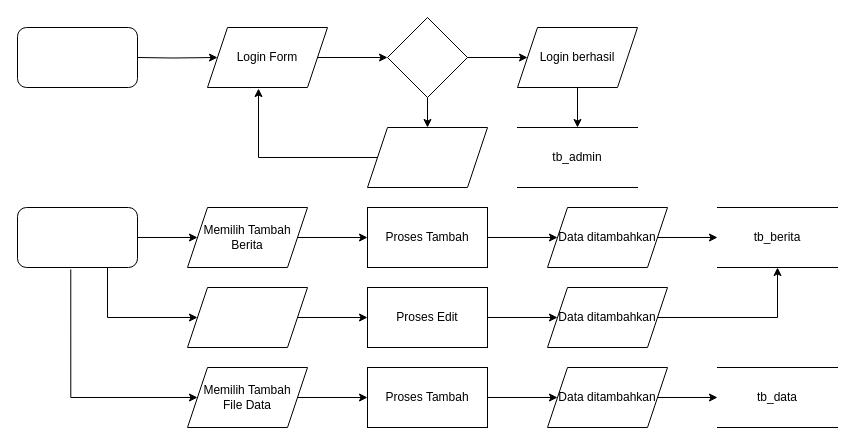
This 855x445 diagram has some shape labels left out. The shapes that lost their labels are listed below. From the top down, each one's centre as x and y in pixels, then its label:
At point 77,57: "User".
At point 427,57: "Validasi Login".
At point 427,157: "Login Gagal".
At point 77,237: "Admin".
At point 247,317: "Memilih Edit Berita".
